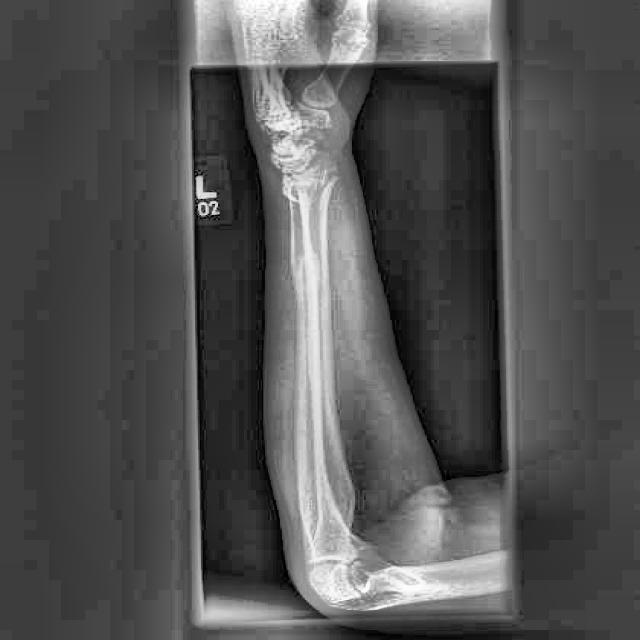forearm fracture: (278, 240, 328, 317)
